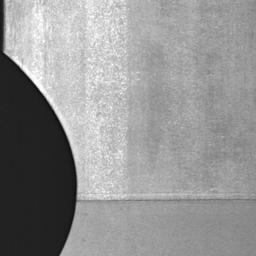Crescent gap: (0, 53, 77, 256)
